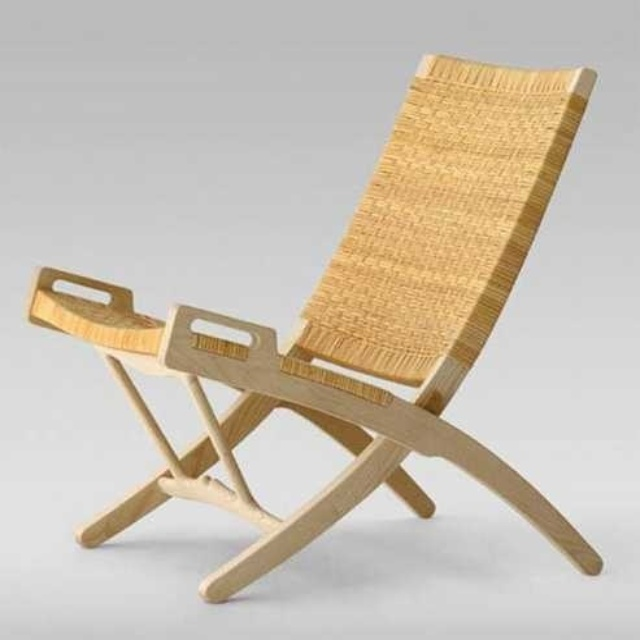obstacle: (29, 55, 601, 602)
